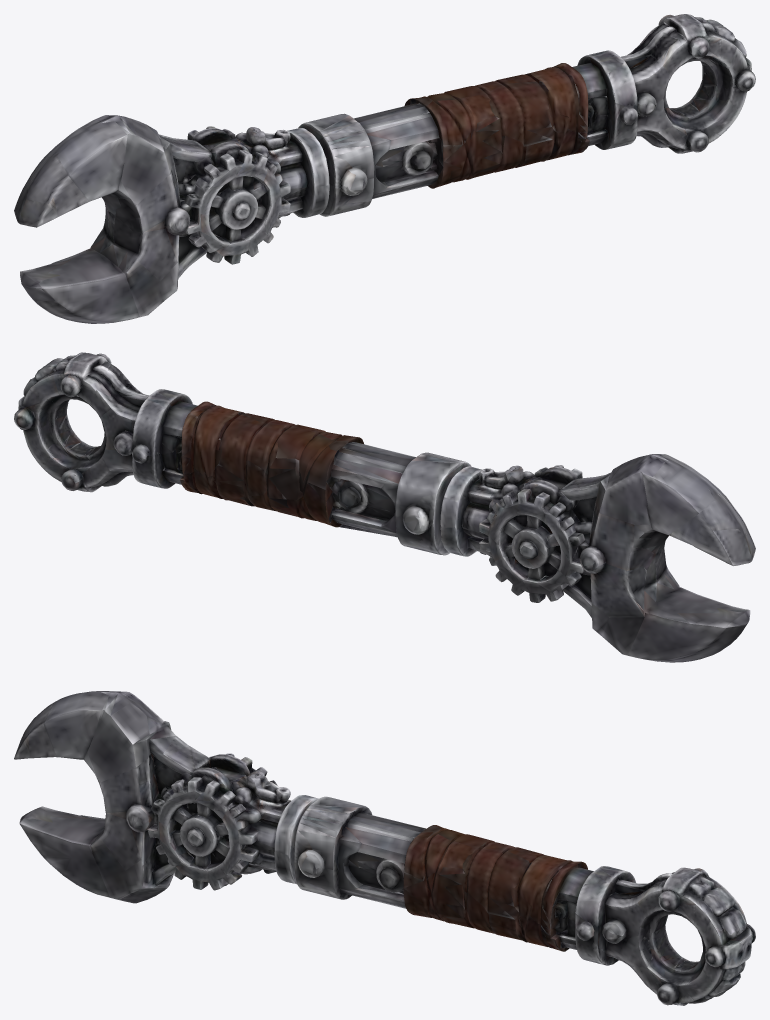
Rendered from wrench.glb.
3 renders of one model, top to bottom at view 1: azimuth 30°, elevation 25°; view 2: azimuth 150°, elevation 25°; view 3: azimuth 330°, elevation 25°, orthographic.
Visible parts, largest first — view 1: Mesh_0; view 2: Mesh_0; view 3: Mesh_0.
Boxes of the visible parts, box(x1,y1,x2,y2) form: Mesh_0: box(14, 14, 755, 323); Mesh_0: box(14, 352, 755, 662); Mesh_0: box(14, 691, 755, 1005).
Size of the model in its own units: 1.9 by 0.5135 by 0.2338.
1 material, 1 textured.
